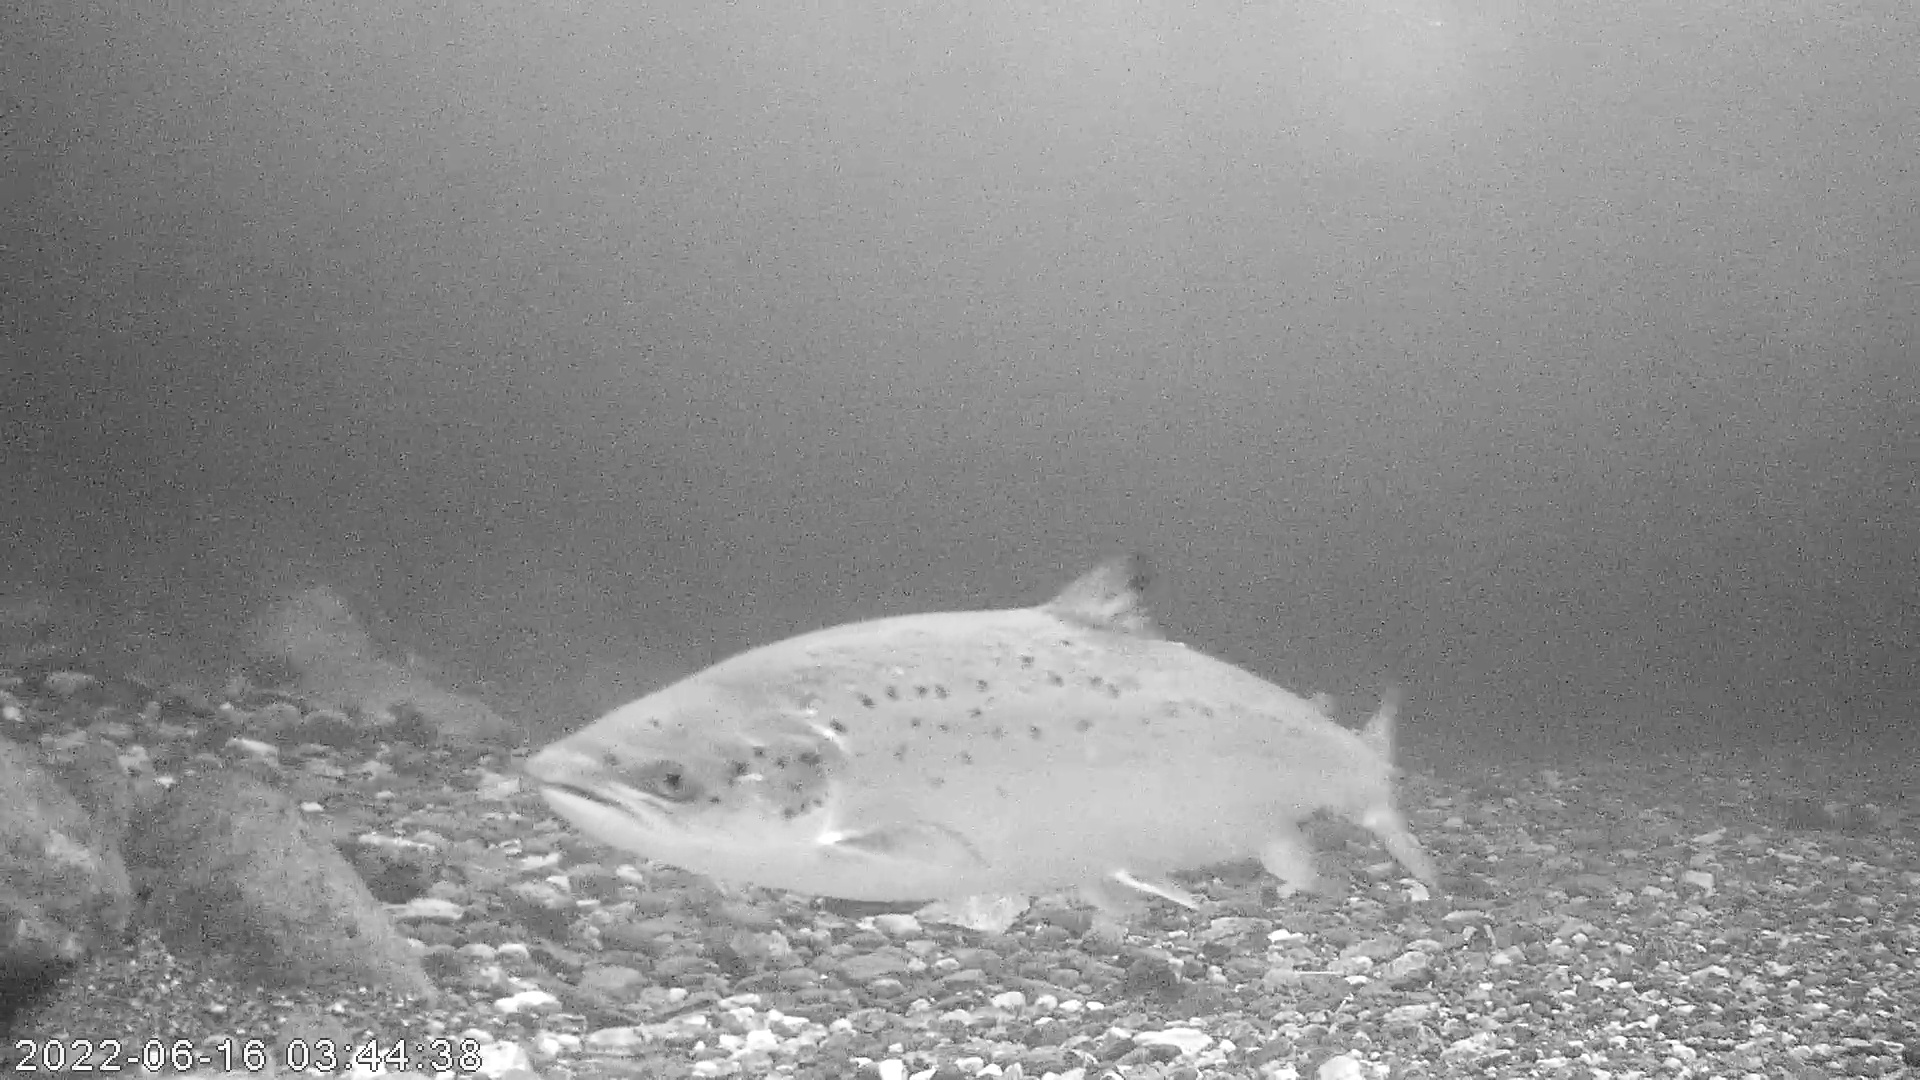salmon: (521, 545, 1443, 910)
